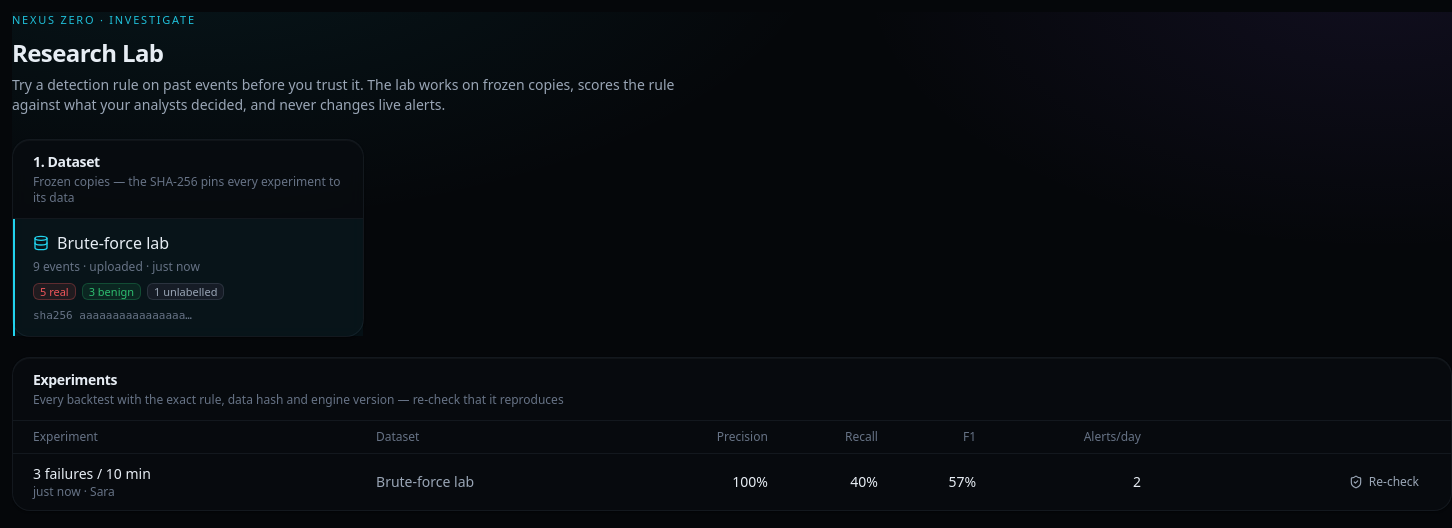
Test case: LabPage › is read-only without lab:run and offers the reproducibility check
Expected: the list named "Datasets" is shown, x1=13 y1=218 x2=363 y2=336
Click the button "Re-check" at [1384, 482], box x1=1337 y1=466 x2=1431 y2=498
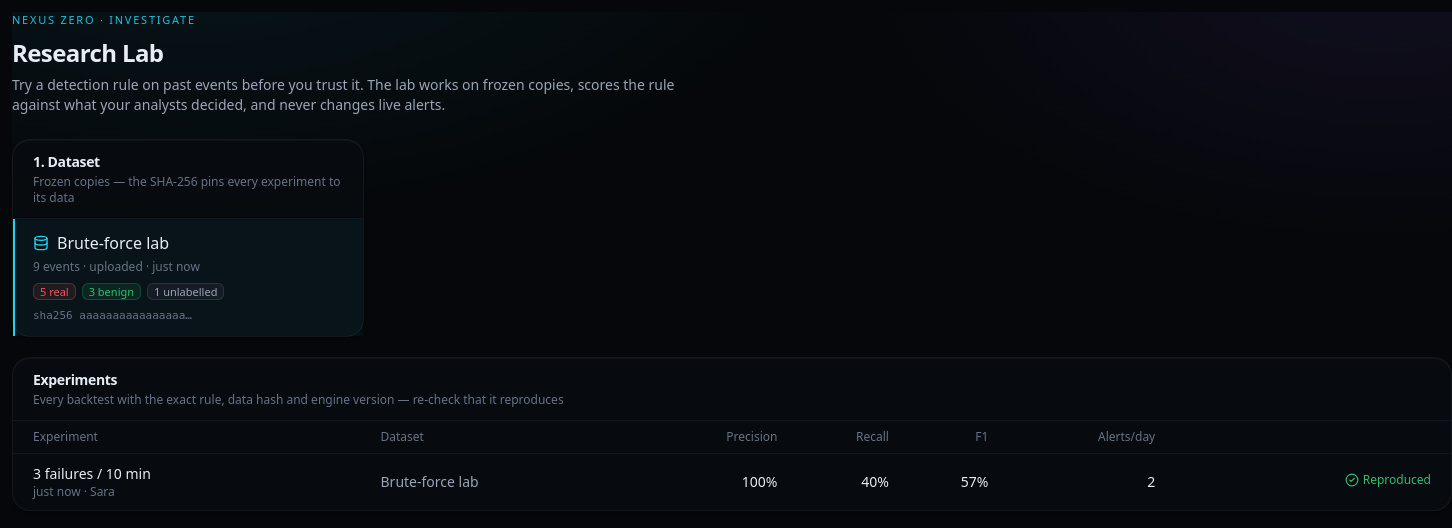
Expected: the text "Reproduced" is shown, x1=1345 y1=472 x2=1431 y2=488
